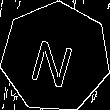N_N: (30, 28, 81, 87)
